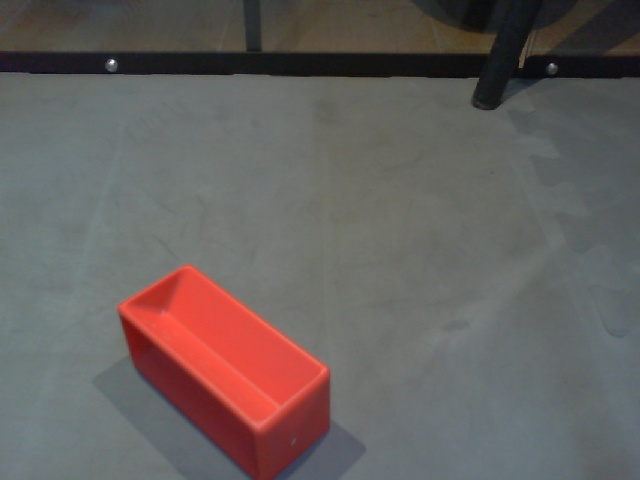RedSample: (116, 261, 332, 480)
